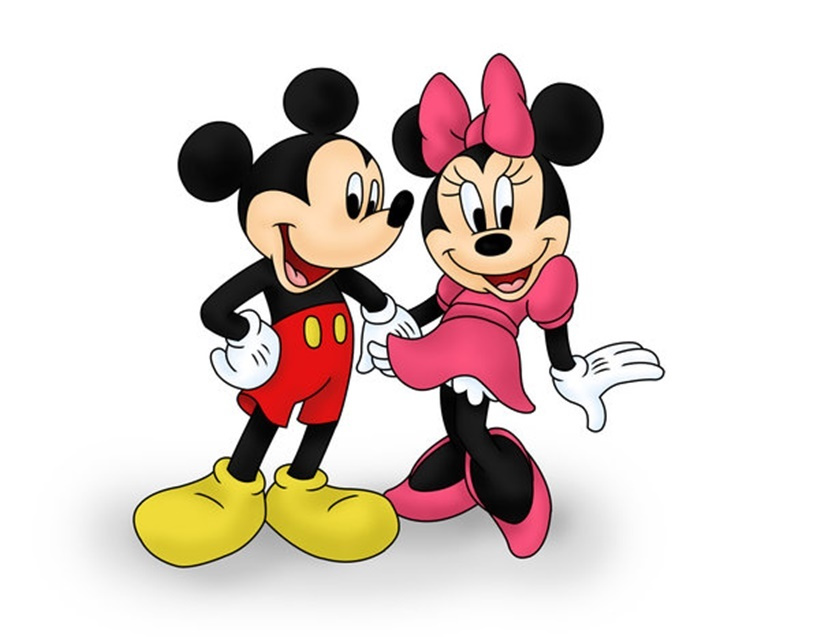Mickey: (174, 62, 414, 295)
